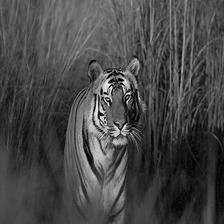tiger: (62, 57, 144, 224)
